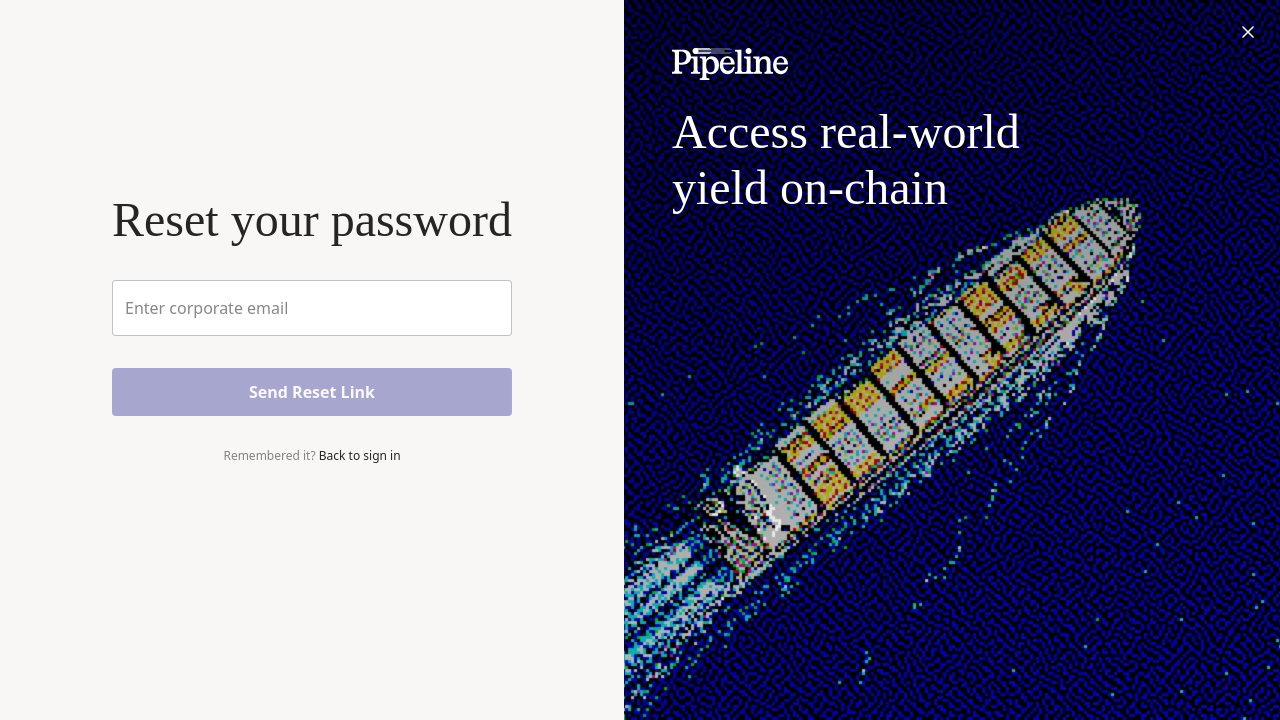
Test: ForgotPasswordModal (#1280) › submit becomes enabled once a well-formed email is typed
Type "lp@example.com" into the field with placeholder "Enter corporate email" at {"x": 312, "y": 308}, box [125,297,499,319]
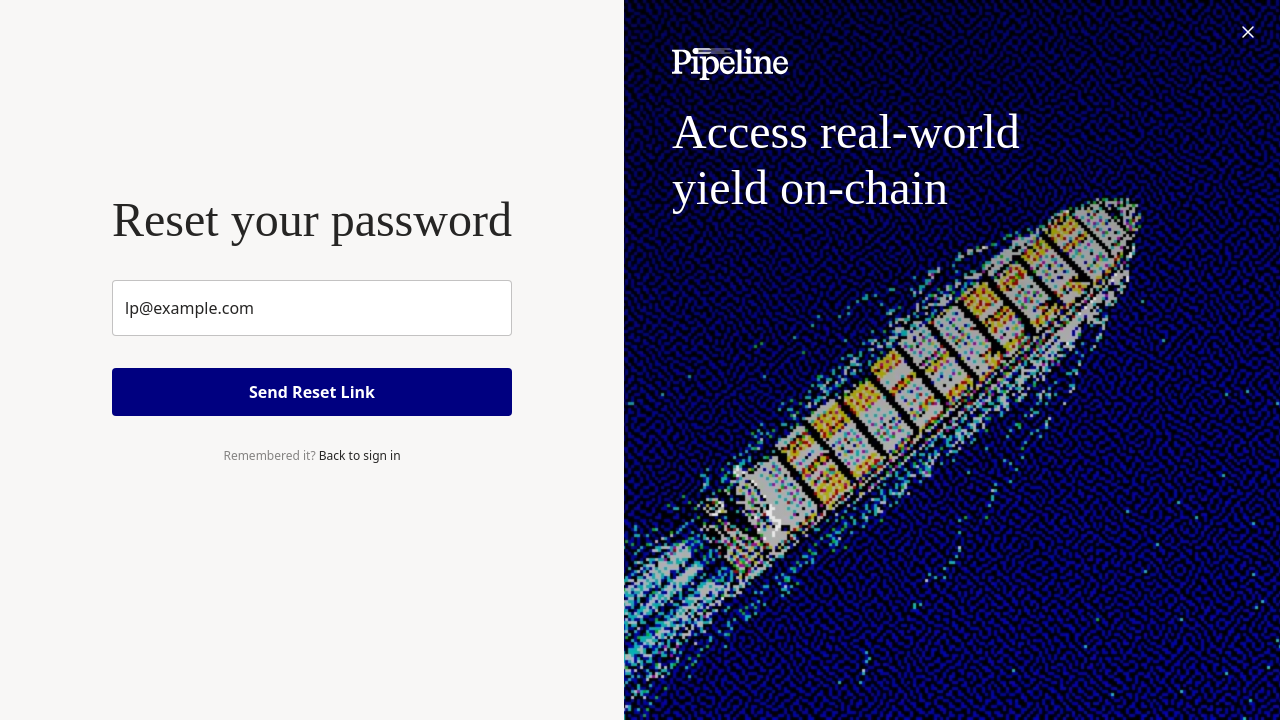
Result: the button "Send Reset Link" is enabled at [112,368,512,416]
